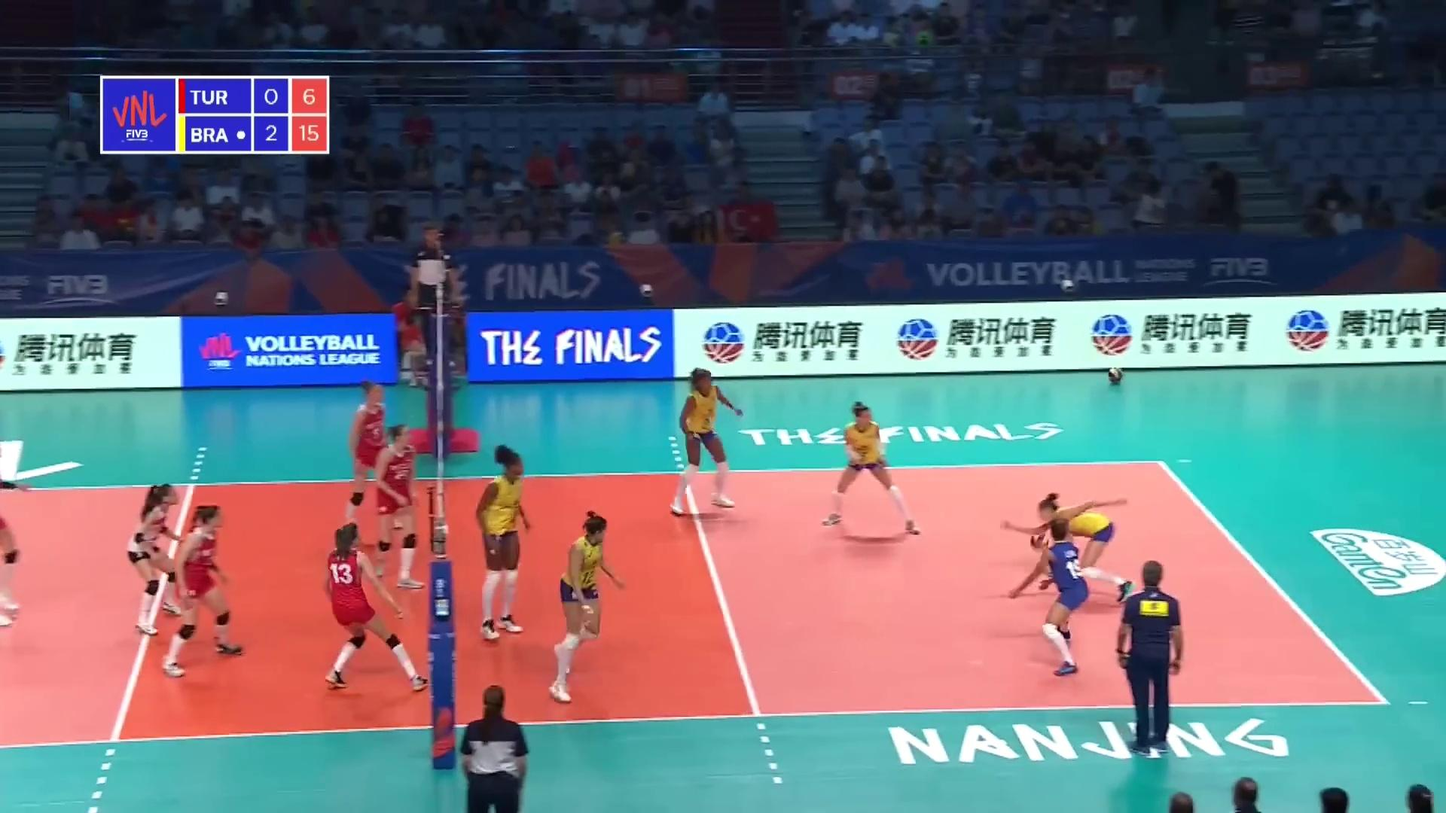player: (323, 522, 423, 697), (818, 403, 927, 535), (162, 501, 244, 676), (554, 515, 625, 707), (476, 449, 536, 641), (1034, 492, 1135, 603), (671, 369, 744, 520), (1021, 521, 1089, 675), (128, 485, 194, 633), (373, 422, 428, 591), (351, 384, 392, 551), (0, 470, 25, 625)
refree: (452, 680, 539, 810), (407, 223, 460, 373)
